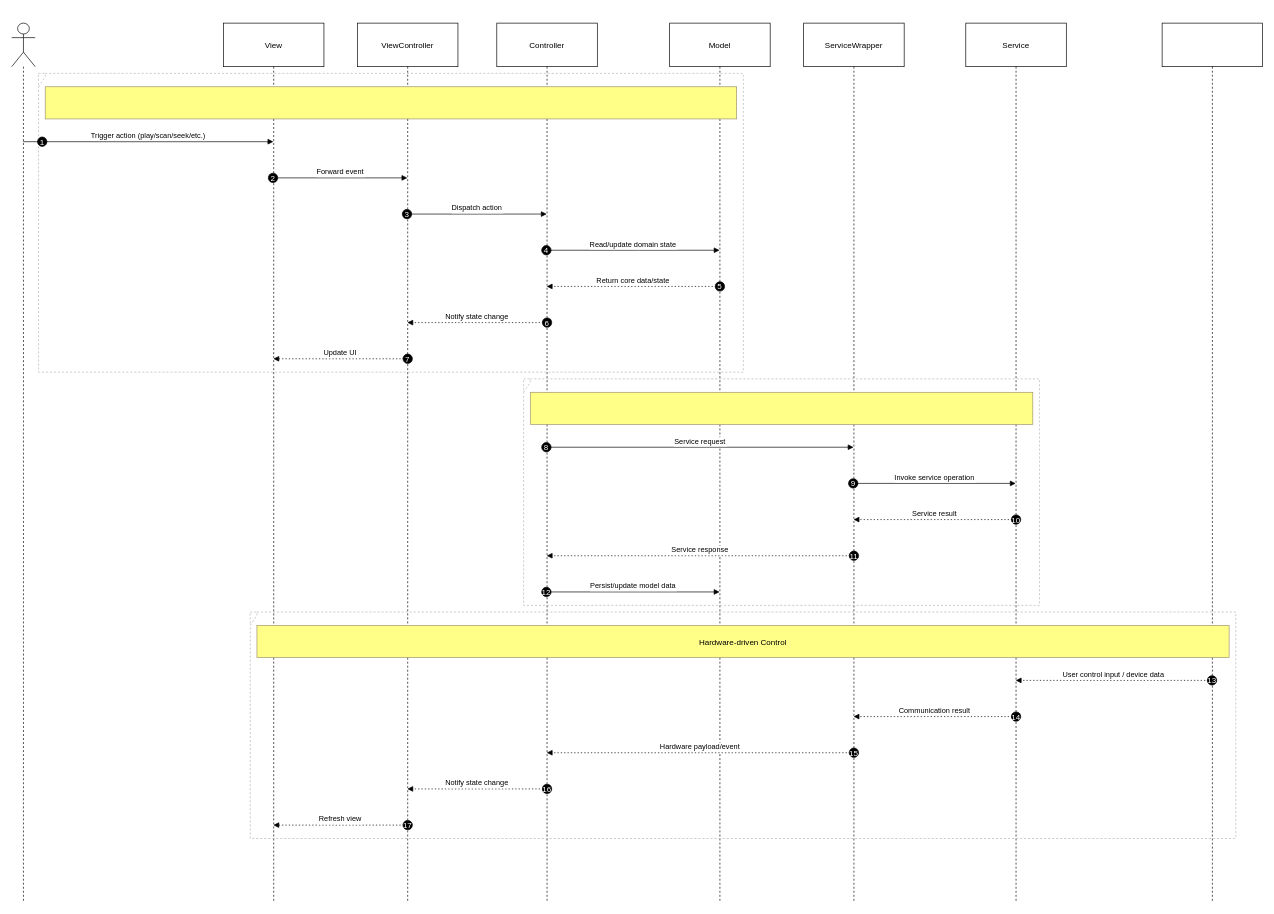
Image size: 1274x914. Some labels were removed from this diagram. Each missing label, with the box of its shape:
Hardware: (1161, 22, 1263, 902)
Service Request/Response: (530, 392, 1033, 424)
UI Interaction + State Update: (45, 86, 737, 119)
User: (11, 22, 35, 902)
